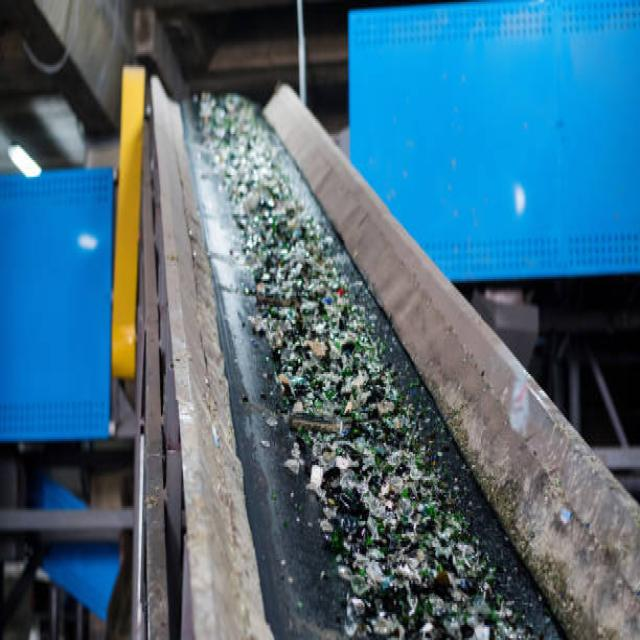glass: (310, 382, 404, 526), (256, 214, 333, 337)
